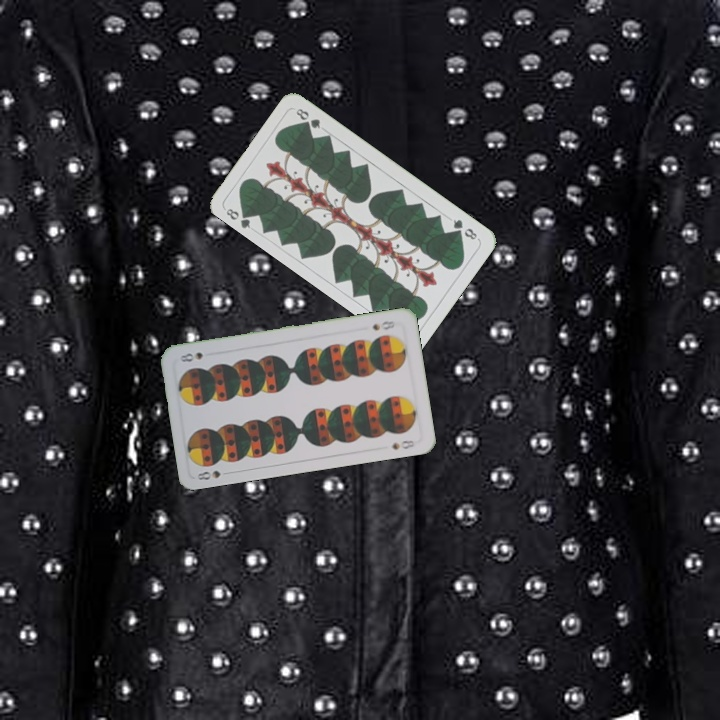G8: (222, 204, 254, 231), (449, 215, 480, 242)
S8: (193, 466, 234, 482), (368, 317, 399, 333)
